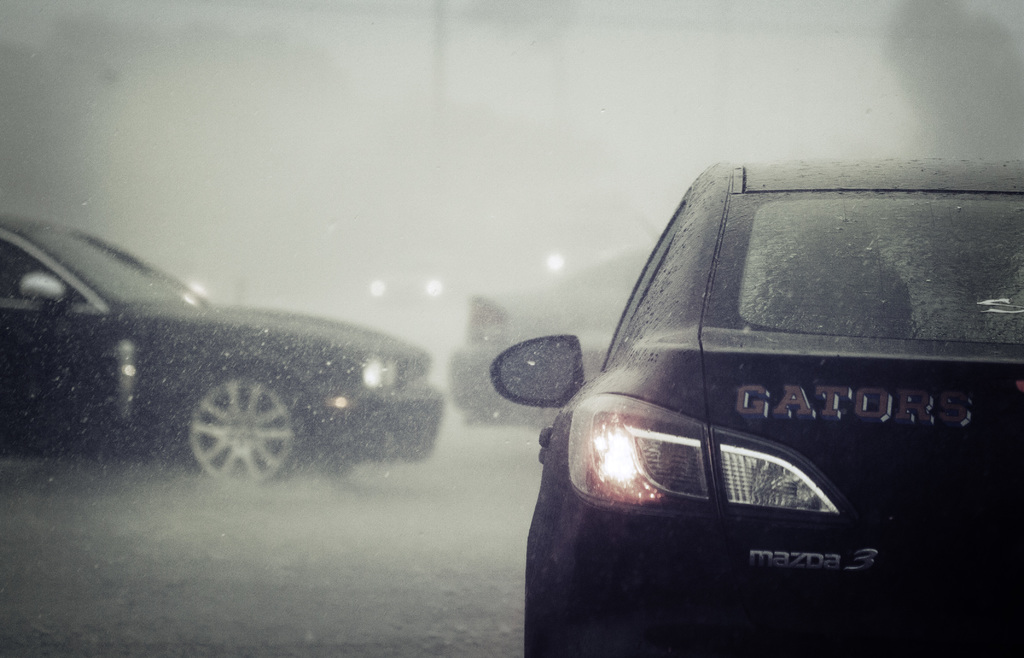Car: (499, 154, 1002, 627), (0, 216, 446, 486), (451, 244, 656, 417)
